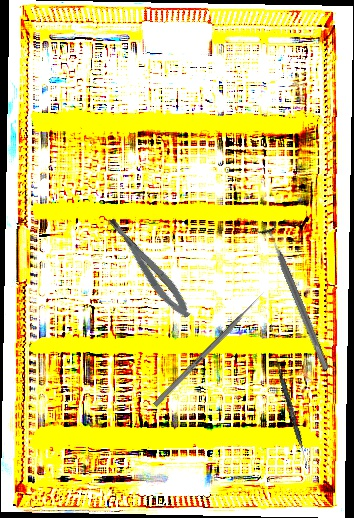Fixation Ring: (254, 220, 338, 375)
Micro Scissor: (103, 211, 196, 323)
Pusher: (152, 290, 267, 408), (107, 218, 191, 307)
Spatula Surgical: (271, 355, 312, 469)
